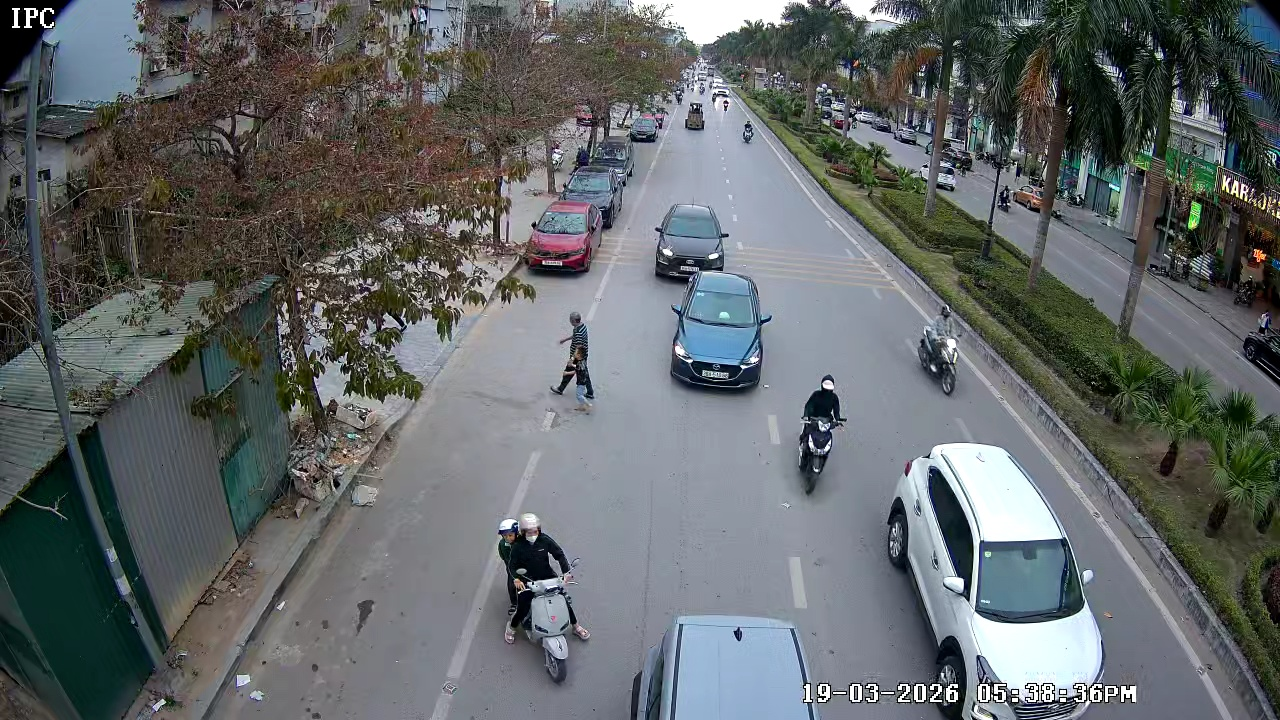car: (885, 421, 1109, 719), (670, 270, 772, 392), (652, 203, 731, 279), (524, 200, 597, 277)
motorbike: (495, 514, 591, 683), (794, 373, 849, 495), (917, 301, 962, 396), (742, 120, 756, 143)
pedestrian: (549, 310, 598, 408)
